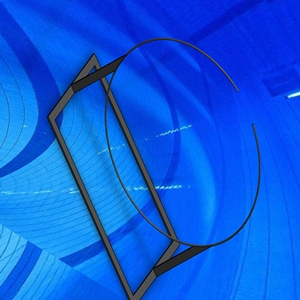circle: (46, 36, 262, 299)
